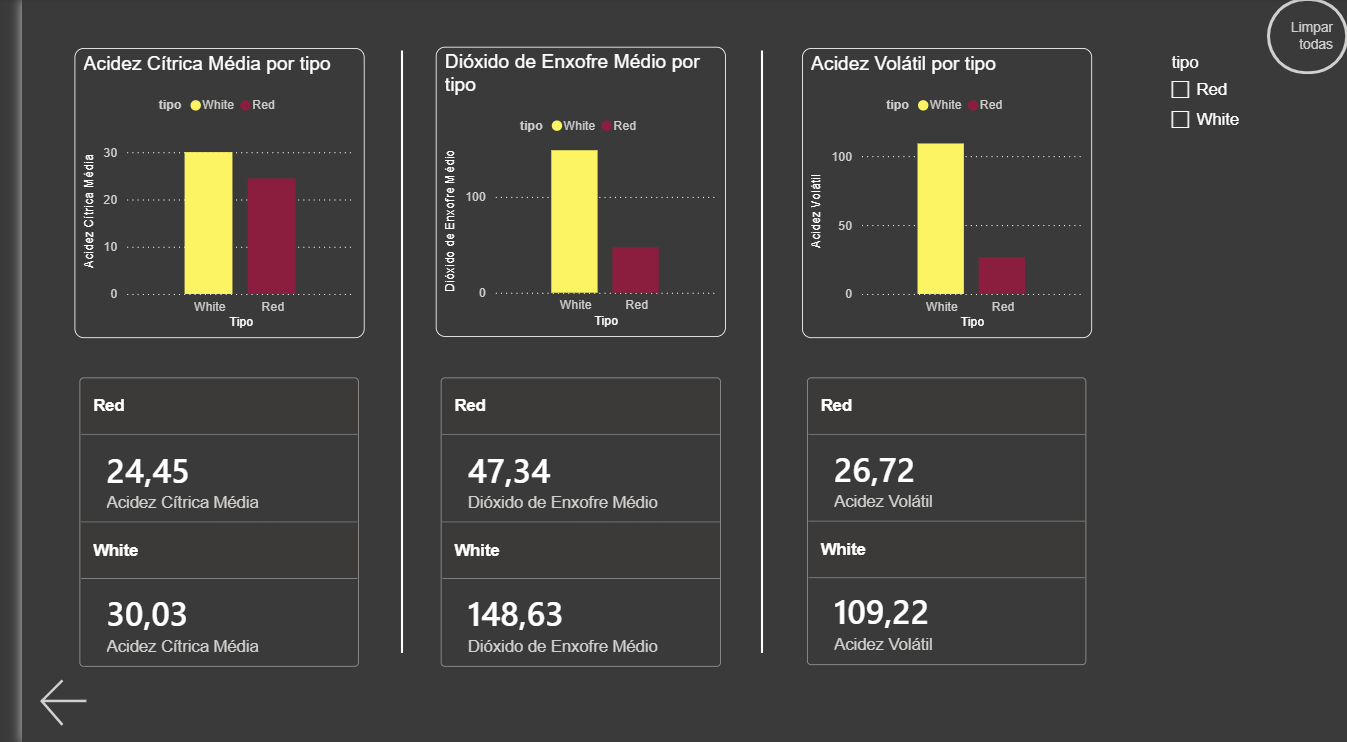

This screenshot's page, from the dashboard's own definition file:
{"tool":"powerbi","page":{"name":"Propriedades Químicas 2","canvas":[1280,720],"ordinal":2},"visuals":[{"type":"columnChart","title":"Acidez Cítrica Média por tipo","fields":{"Category":["winequality-total.type"],"Y":["winequality-total.Acidez Cítrica Média"],"Series":["winequality-total.type"]},"box":[50.7,48.3,280,280],"z":0},{"type":"columnChart","title":"Dióxido de Enxofre Médio por tipo","fields":{"Category":["winequality-total.type"],"Y":["winequality-total.Dióxido de Enxofre Médio"],"Series":["winequality-total.type"]},"box":[399.3,47.1,280,280],"z":1000},{"type":"columnChart","title":"Acidez Volátil por tipo","fields":{"Y":["winequality-total.Acidez Volátil"],"Category":["winequality-total.type"],"Series":["winequality-total.type"]},"box":[752.8,48.3,280,280],"z":2000},{"type":"actionButton","box":[0,639.2,100.1,80.8],"z":3000},{"type":"slicer","fields":{"Values":["winequality-total.type"]},"box":[1096.7,48.3,109.8,100.1],"z":4000},{"type":"cardVisual","fields":{"Data":["winequality-total.Acidez Cítrica Média"],"Rows":["winequality-total.type"]},"box":[50.7,341.4,279.9,329.4],"z":5000},{"type":"cardVisual","fields":{"Rows":["winequality-total.type"],"Data":["winequality-total.Dióxido de Enxofre Médio"]},"box":[399,341,280,329],"z":6000},{"type":"cardVisual","fields":{"Rows":["winequality-total.type"],"Data":["winequality-total.Acidez Volátil"]},"box":[752.8,341.4,279.9,328.2],"z":7000},{"type":"actionButton","box":[1201.6,0,78.4,73.6],"z":8000},{"type":"shape","box":[292,50.7,149.6,581.5],"z":9000},{"type":"shape","box":[639.4,50.7,149.6,581.5],"z":10000},{"type":"actionButton","box":[1179.9,639.2,100.1,80.8],"z":10001}]}

Visuals, with their boxes in screenshot pixels (x1, y1, x2, y2), scaled from the page's 1280x720 canvas onto the 1347x742 screenshot:
"Acidez Cítrica Média por tipo" columnChart: Rect(53, 50, 348, 338)
"Dióxido de Enxofre Médio por tipo" columnChart: Rect(420, 49, 715, 337)
"Acidez Volátil por tipo" columnChart: Rect(792, 50, 1087, 338)
actionButton: Rect(0, 659, 105, 741)
slicer - winequality-total.type: Rect(1154, 50, 1270, 153)
cardVisual - winequality-total.Acidez Cítrica Média x winequality-total.type: Rect(53, 352, 348, 691)
cardVisual - winequality-total.type x winequality-total.Dióxido de Enxofre Médio: Rect(420, 351, 715, 690)
cardVisual - winequality-total.type x winequality-total.Acidez Volátil: Rect(792, 352, 1087, 690)
actionButton: Rect(1264, 0, 1346, 76)
shape: Rect(307, 52, 465, 652)
shape: Rect(673, 52, 830, 652)
actionButton: Rect(1242, 659, 1346, 741)
